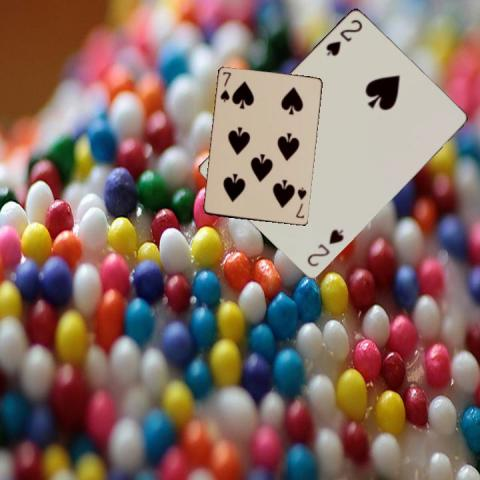2s: (304, 225, 345, 268), (323, 16, 364, 57)
7s: (217, 69, 233, 104), (293, 185, 308, 220)
